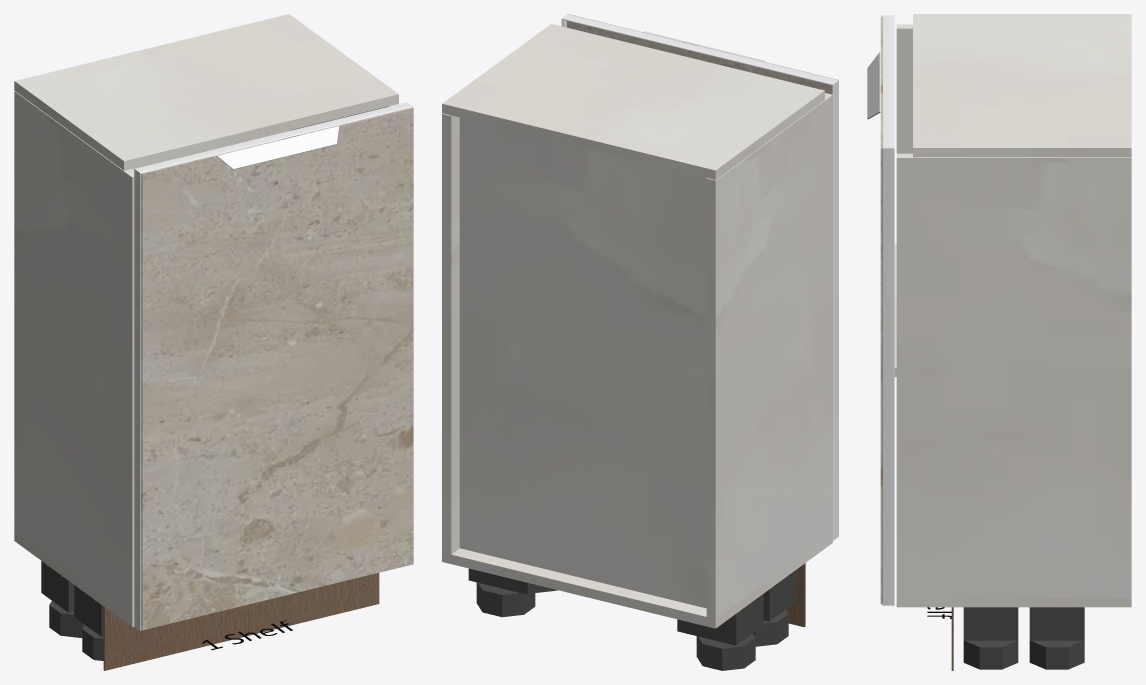
The picture shows the model from 3 angles, left to right: view 1: azimuth 30°, elevation 25°; view 2: azimuth 150°, elevation 25°; view 3: azimuth 270°, elevation 25°; orthographic projection.
Size of what is drawn, in the model's own units: 0.45 by 0.82 by 0.3759.
6 materials, 3 textured.
